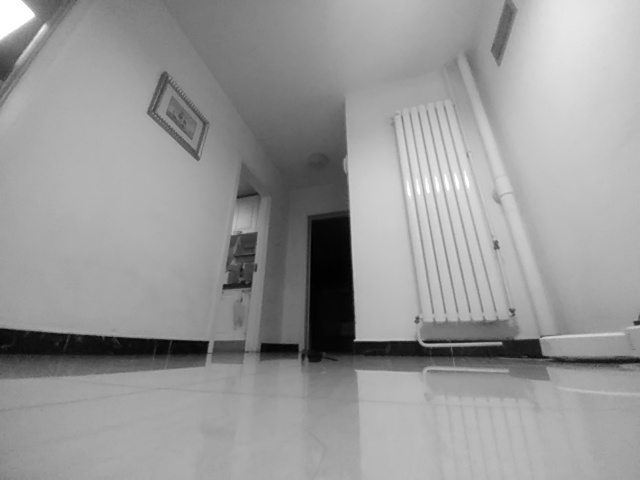others: (299, 345, 337, 365)
